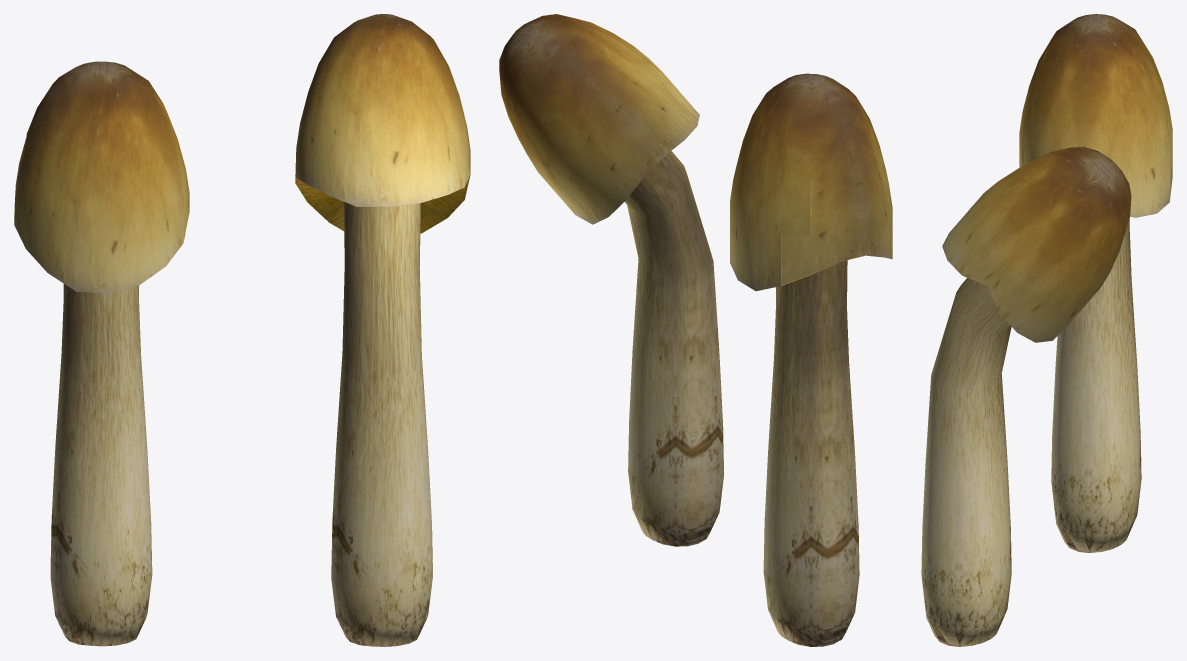
The model's file is toadstool1_c.obj.
The picture shows the model from 3 angles, left to right: view 1: azimuth 30°, elevation 25°; view 2: azimuth 150°, elevation 25°; view 3: azimuth 270°, elevation 25°; orthographic projection. The views are drawn at different scales.
Visible parts, largest first — view 1: toadstool1_c_toatstool1_c; view 2: toadstool1_c_toatstool1_c, toadstool1_c_Form6; view 3: toadstool1_c_toatstool1_c.
Boxes of the visible parts, bbox=[...] form: toadstool1_c_toatstool1_c: bbox=[14, 14, 470, 646]; toadstool1_c_toatstool1_c: bbox=[499, 14, 892, 646]; toadstool1_c_Form6: bbox=[781, 175, 865, 284]; toadstool1_c_toatstool1_c: bbox=[921, 14, 1172, 646].
Bounding box in the file's own units: 17.67 × 23.8 × 10.4.
1 material, 1 textured.
